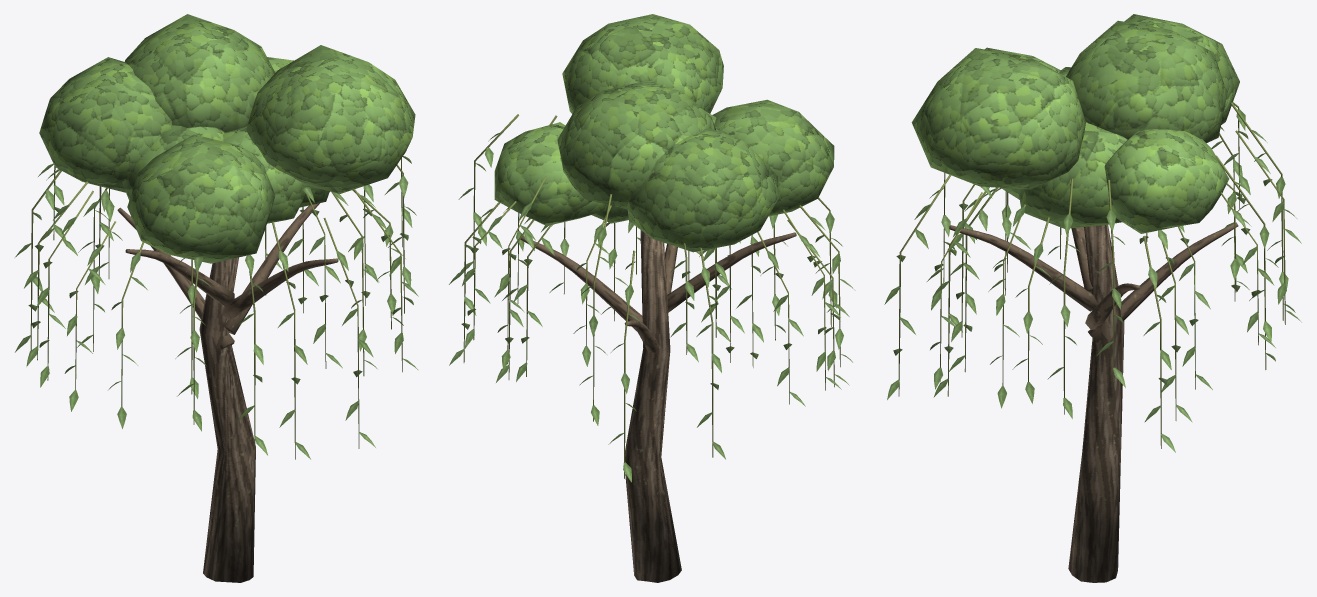
The model's file is swamp_willow.glb.
The picture shows the model from 3 angles, left to right: view 1: azimuth 30°, elevation 25°; view 2: azimuth 150°, elevation 25°; view 3: azimuth 270°, elevation 25°; orthographic projection. The views are drawn at different scales.
Parts seen in each view (by area): view 1: Crown_leaf, Trunk; view 2: Crown_leaf, Trunk; view 3: Crown_leaf, Trunk.
Part boxes in pixels (x1,y1,x2,y2): Crown_leaf: (15,14,418,459); Trunk: (117,203,338,582); Crown_leaf: (449,14,855,482); Trunk: (520,230,796,582); Crown_leaf: (884,14,1301,452); Trunk: (949,222,1238,582).
Bounding box in the file's own units: 3.03 × 3.96 × 2.78.
Materials: 1 (1 with a texture image).
